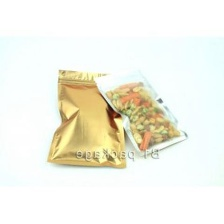snack: (88, 57, 192, 160), (42, 64, 133, 173)
